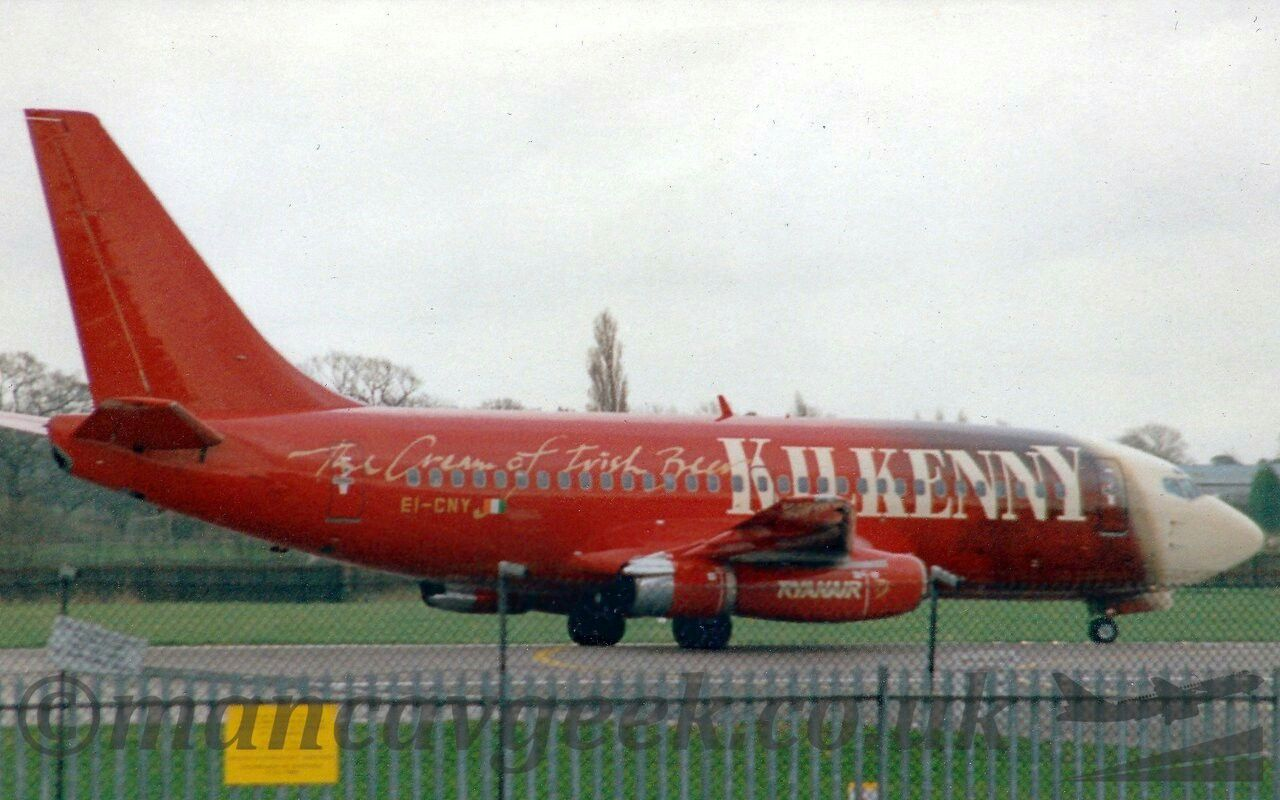Aeronef_commercial: (1, 104, 1261, 653)
